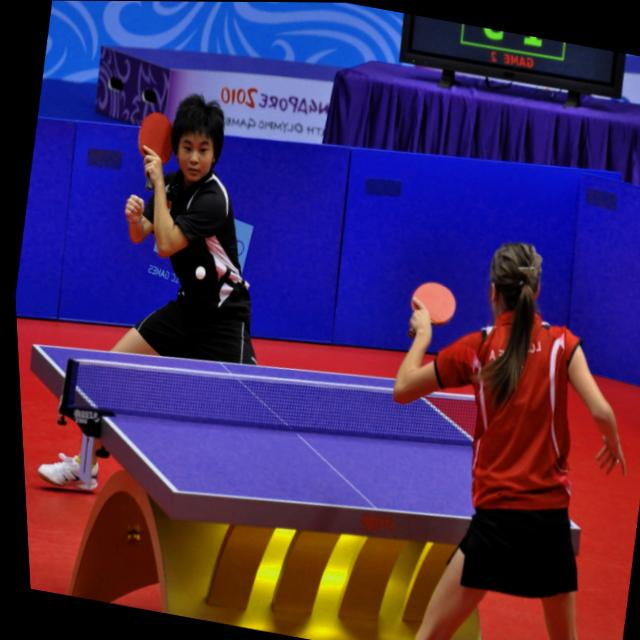TT Net: (60, 356, 530, 453)
TT Racket: (402, 271, 467, 333), (133, 100, 182, 171)
TT Table: (32, 343, 578, 527)
